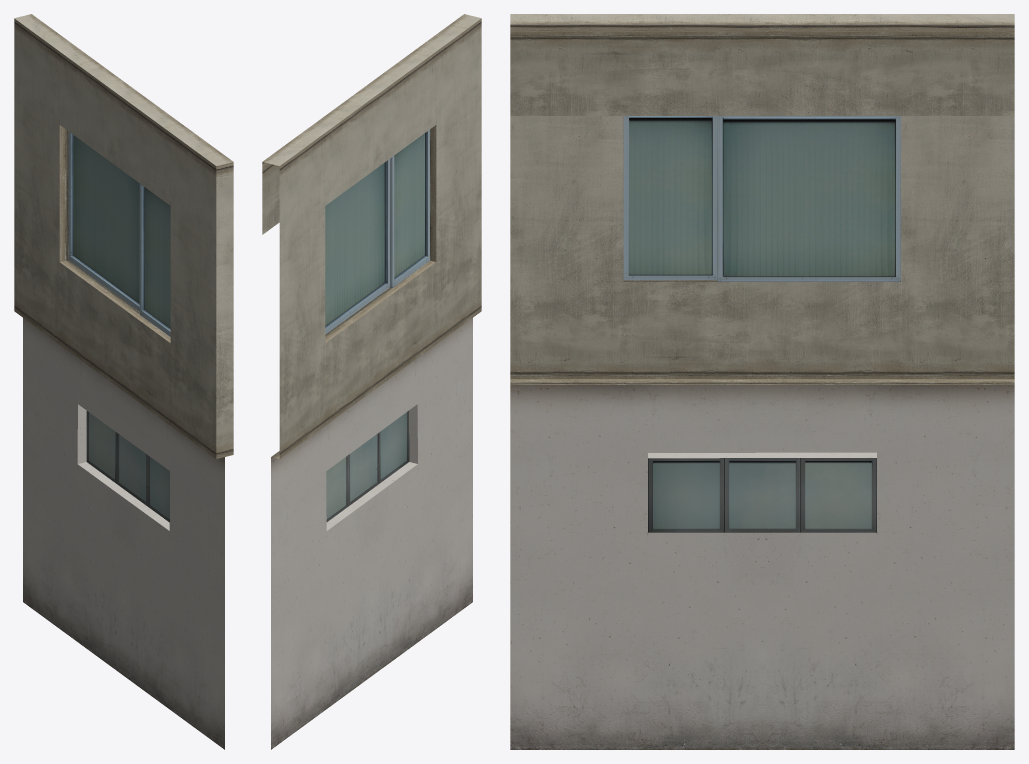
Rendered from SM_ind_building_03.fbx.
3 renders of one model, left to right at view 1: azimuth 30°, elevation 25°; view 2: azimuth 150°, elevation 25°; view 3: azimuth 270°, elevation 25°, orthographic. The views are drawn at different scales.
Parts seen in each view (by area): view 1: SM_ind_building_03; view 2: SM_ind_building_03; view 3: SM_ind_building_03.
Boxes of the visible parts, left/top/right/bottom form: SM_ind_building_03: left=14, top=14, right=233, bottom=749; SM_ind_building_03: left=262, top=14, right=481, bottom=749; SM_ind_building_03: left=510, top=14, right=1014, bottom=749.
Bounding box in the file's own units: 32.17 × 640 × 1024.
Materials: 3 (3 with a texture image).
